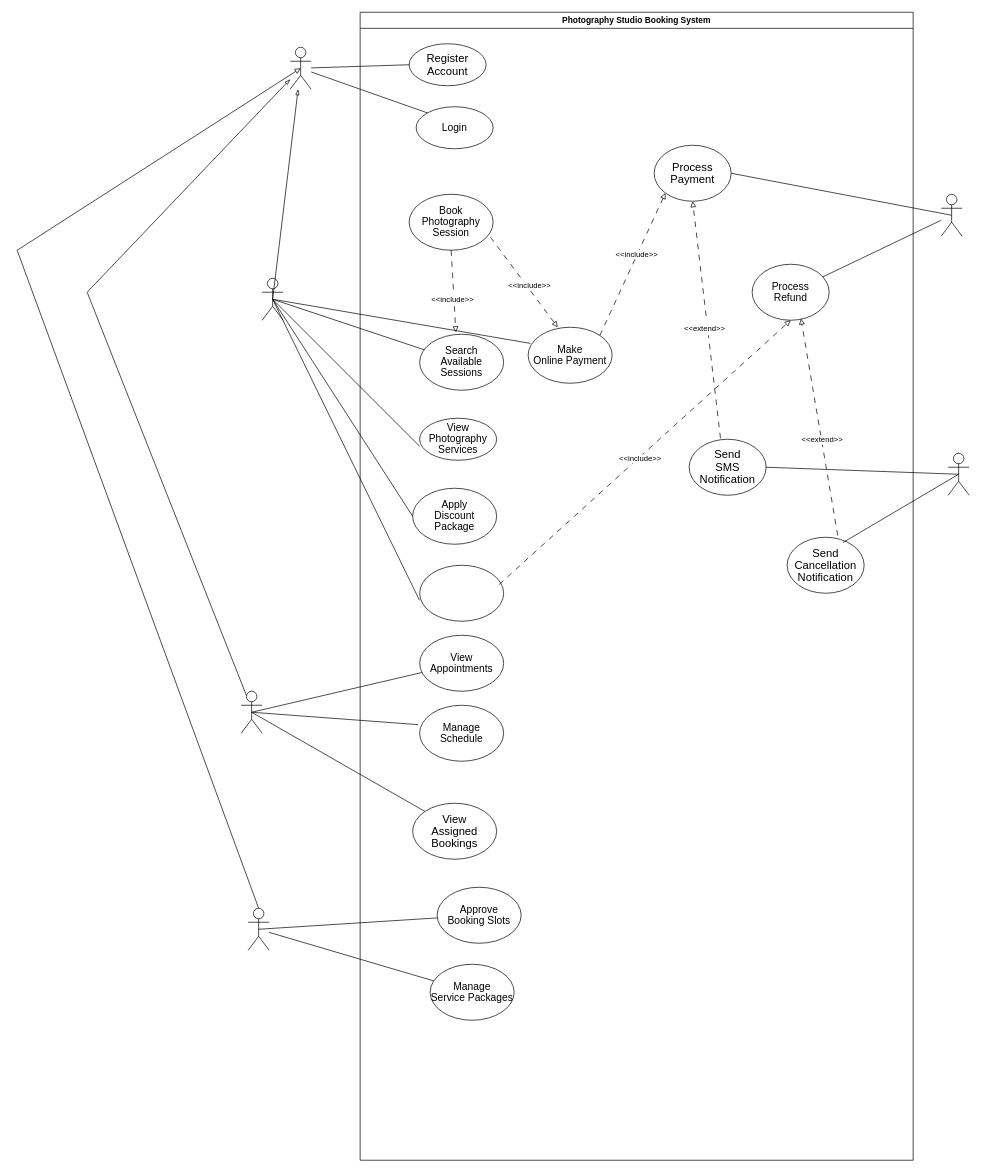
The diagram is 998 pixels wide and 1173 high, and some of its shapes have lost their labels. The centre of each missing label's shape, as x and y in pixels:
"Cancel Appointment" goes at (x=461, y=593).
"Client" goes at (x=272, y=299).
"Manager" goes at (x=258, y=929).
"Payment Gateway" goes at (x=951, y=215).
"Photographer" goes at (x=251, y=712).
"SMS service" goes at (x=958, y=474).
"User" goes at (x=300, y=68).
